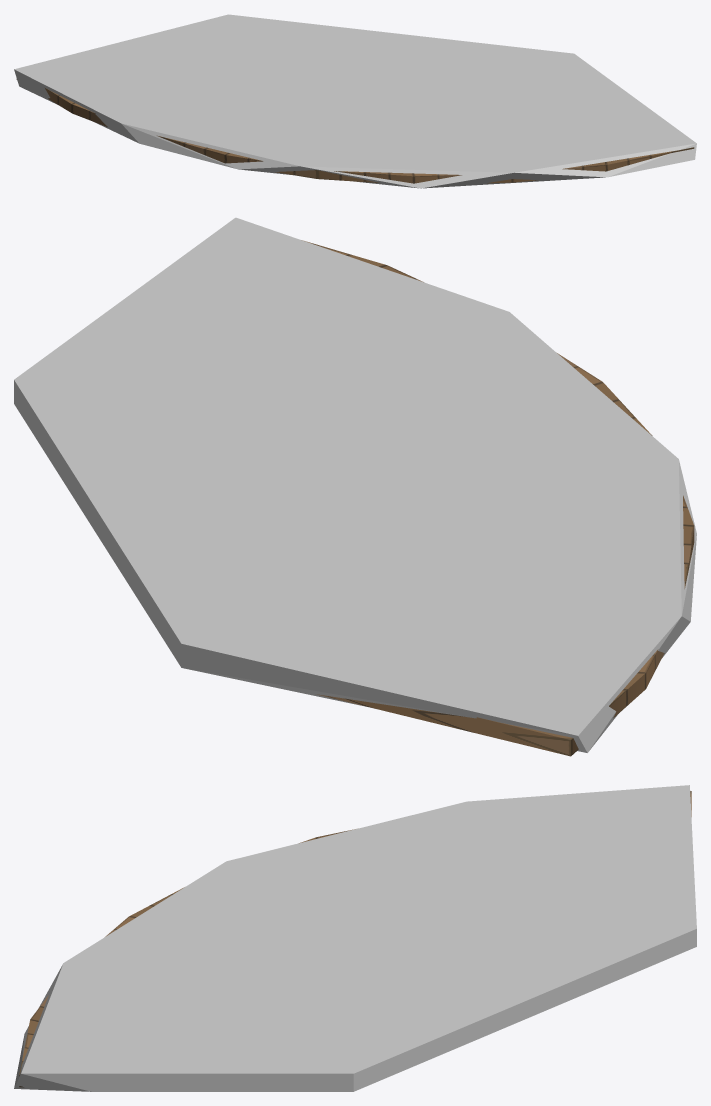
Rendered from SM_Bld_Floor_Curved_01.fbx.
3 views of the same model, one above another, from view 1: azimuth 30°, elevation 25°; view 2: azimuth 150°, elevation 25°; view 3: azimuth 270°, elevation 25° (orthographic). The views are drawn at different scales.
Visible parts, largest first — view 1: SM_Bld_Floor_Curved_01_ConvexHulls, SM_Bld_Floor_Curved_01; view 2: SM_Bld_Floor_Curved_01_ConvexHulls, SM_Bld_Floor_Curved_01; view 3: SM_Bld_Floor_Curved_01_ConvexHulls, SM_Bld_Floor_Curved_01.
Part boxes in pixels (x1,y1,x2,y2): SM_Bld_Floor_Curved_01_ConvexHulls: (14, 14, 696, 188); SM_Bld_Floor_Curved_01: (16, 79, 694, 183); SM_Bld_Floor_Curved_01_ConvexHulls: (14, 217, 696, 752); SM_Bld_Floor_Curved_01: (302, 240, 694, 756); SM_Bld_Floor_Curved_01_ConvexHulls: (14, 785, 696, 1091); SM_Bld_Floor_Curved_01: (19, 791, 691, 1087).
Bounding box in the file's own units: 508 × 508 × 14.88.
Materials: 2 (1 with a texture image).
